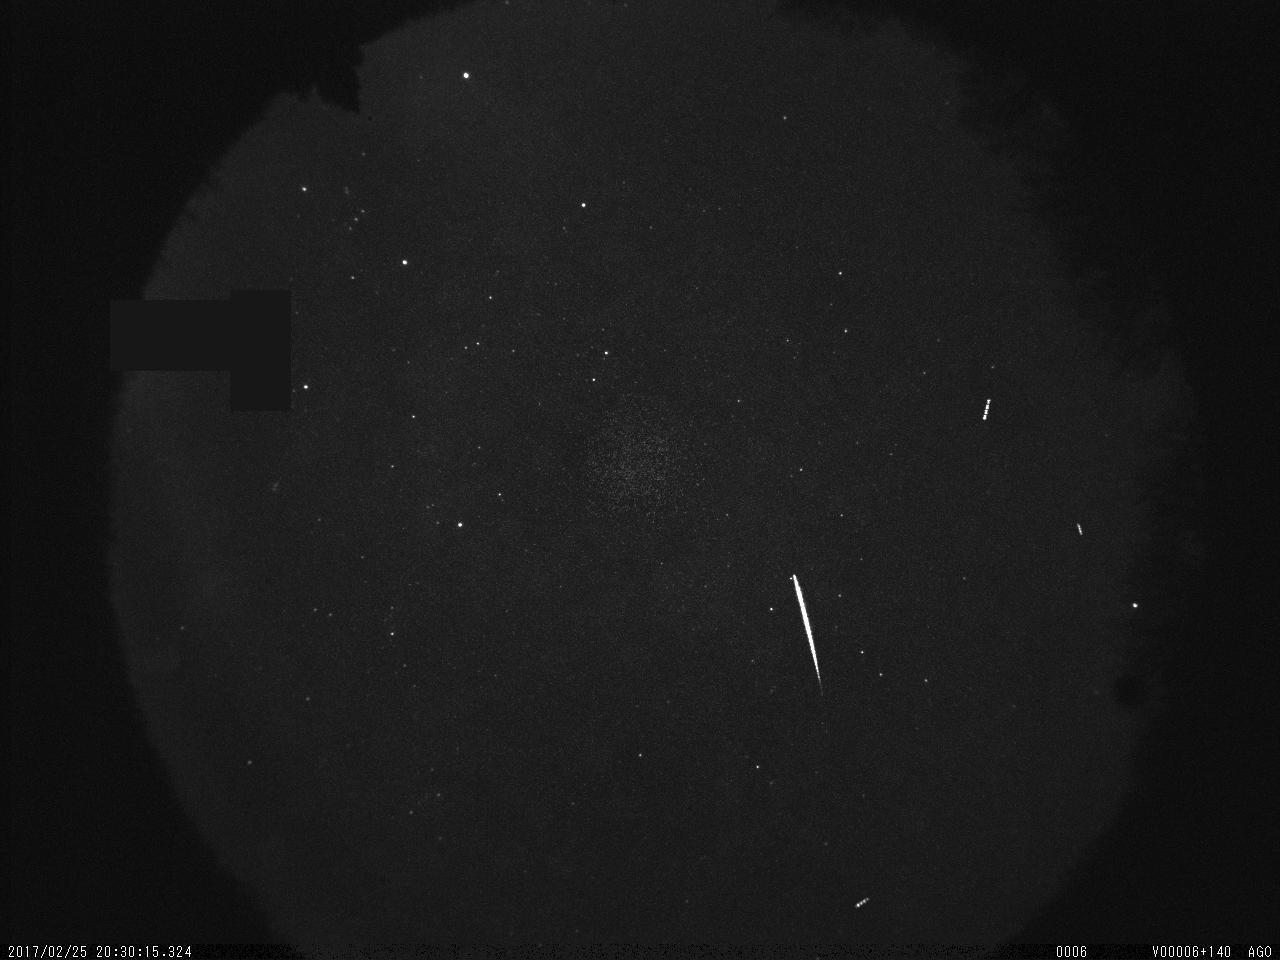meteor: (752, 564, 862, 696)
